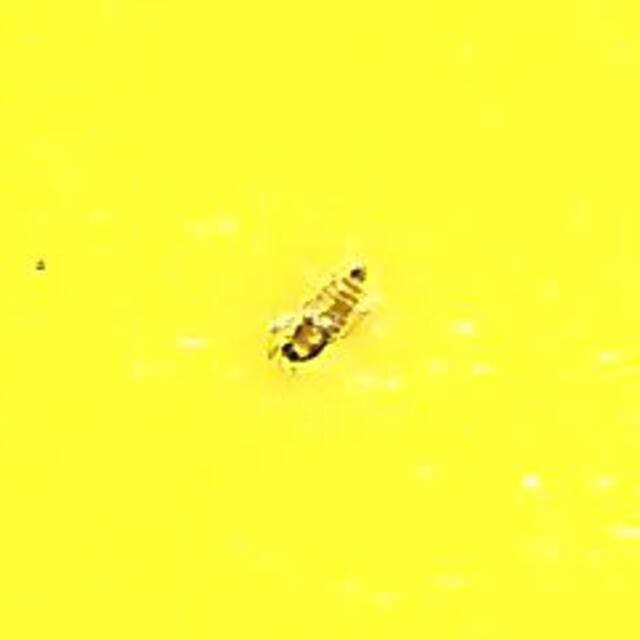Nematocera: (266, 264, 374, 376)
